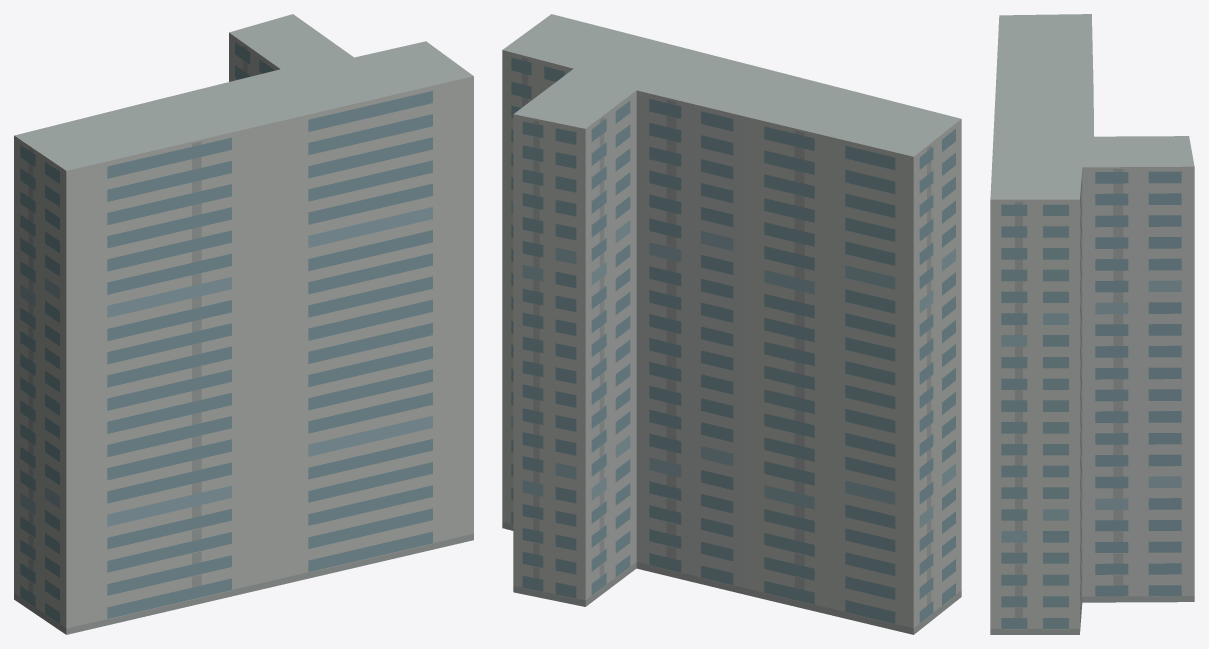
The model's file is residential-b4b4cc7f-f02f-48a3-800a-8a43b4d527db.glb.
3 renders of one model, left to right at view 1: azimuth 30°, elevation 25°; view 2: azimuth 150°, elevation 25°; view 3: azimuth 270°, elevation 25°, orthographic. The views are drawn at different scales.
Parts seen in each view (by area): view 1: residential-b4b4cc7f-f02f-48a3-800a-8a43b4d527db.tmp; view 2: residential-b4b4cc7f-f02f-48a3-800a-8a43b4d527db.tmp; view 3: residential-b4b4cc7f-f02f-48a3-800a-8a43b4d527db.tmp.
Part boxes in pixels (x1,y1,x2,y2): residential-b4b4cc7f-f02f-48a3-800a-8a43b4d527db.tmp: (14,14,473,634); residential-b4b4cc7f-f02f-48a3-800a-8a43b4d527db.tmp: (502,14,961,634); residential-b4b4cc7f-f02f-48a3-800a-8a43b4d527db.tmp: (990,14,1194,634).
Bounding box in the file's own units: 51.24 × 56 × 23.82.
